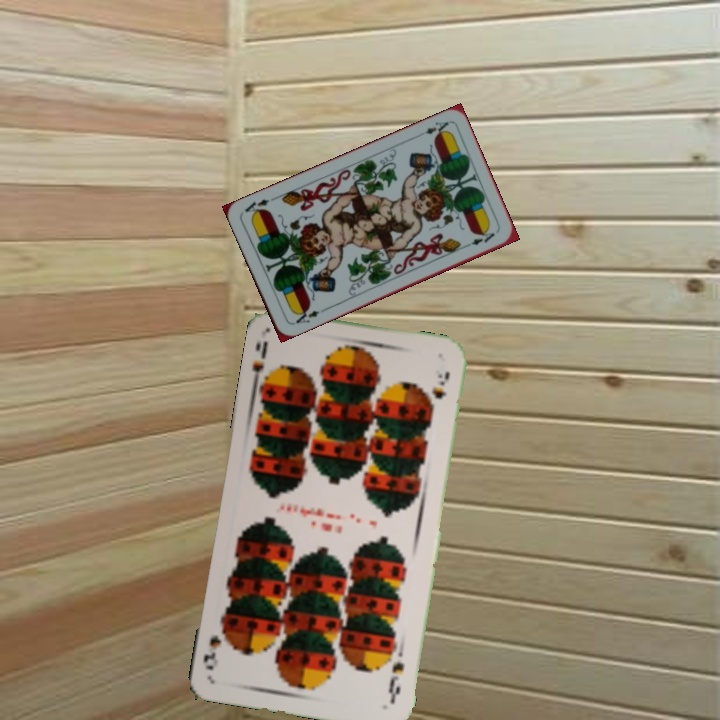EA: (413, 117, 451, 140), (289, 304, 322, 327)
S9: (247, 336, 274, 389), (384, 658, 407, 706)
